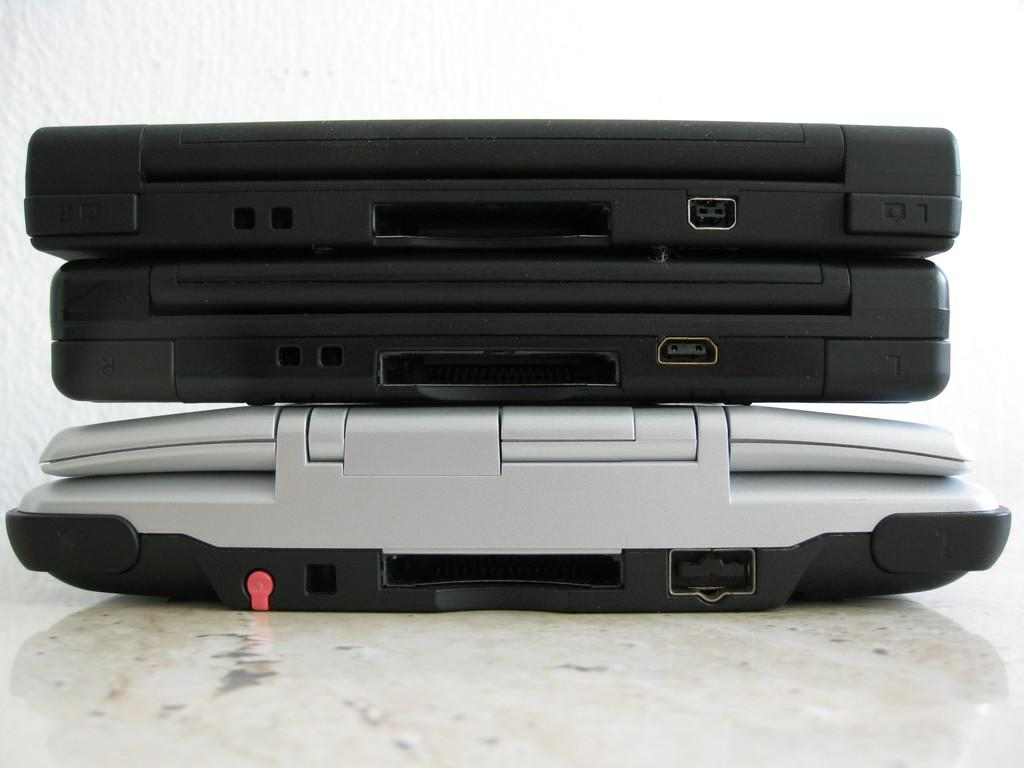Laptop: (26, 113, 959, 252)
